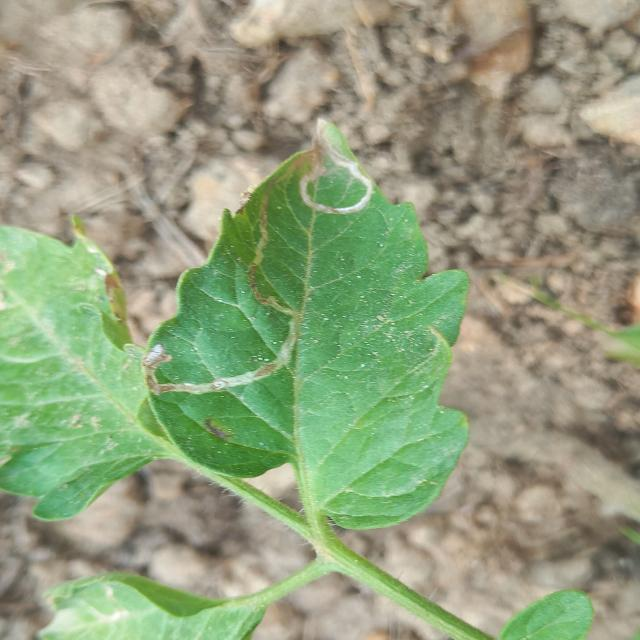Tuta absoluta: (130, 194, 361, 447), (292, 144, 382, 231)
